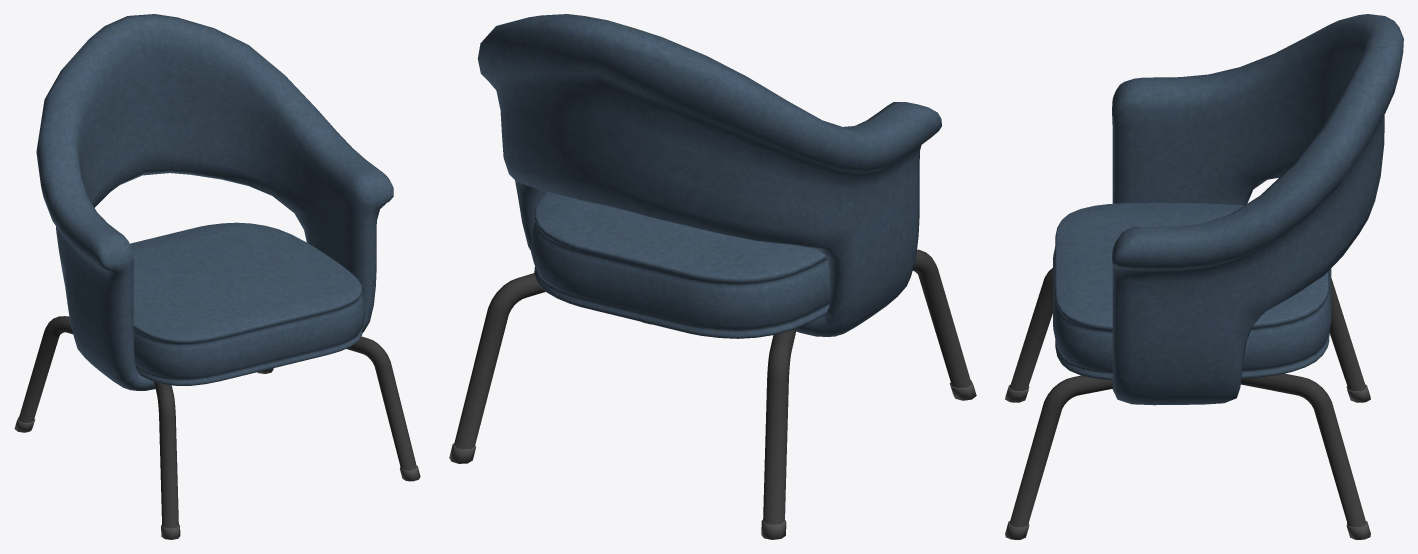
The model's file is Chair.glb.
The picture shows the model from 3 angles, left to right: view 1: azimuth 30°, elevation 25°; view 2: azimuth 150°, elevation 25°; view 3: azimuth 270°, elevation 25°; orthographic projection. The views are drawn at different scales.
Visible parts, largest first — view 1: Chair; view 2: Chair; view 3: Chair.
Boxes of the visible parts, left/top/right/bottom form: Chair: left=14, top=14, right=420, bottom=539; Chair: left=449, top=14, right=976, bottom=539; Chair: left=1005, top=14, right=1403, bottom=539.
Size of the model in its own units: 0.7723 by 0.9362 by 0.7742.
1 material, 1 textured.
